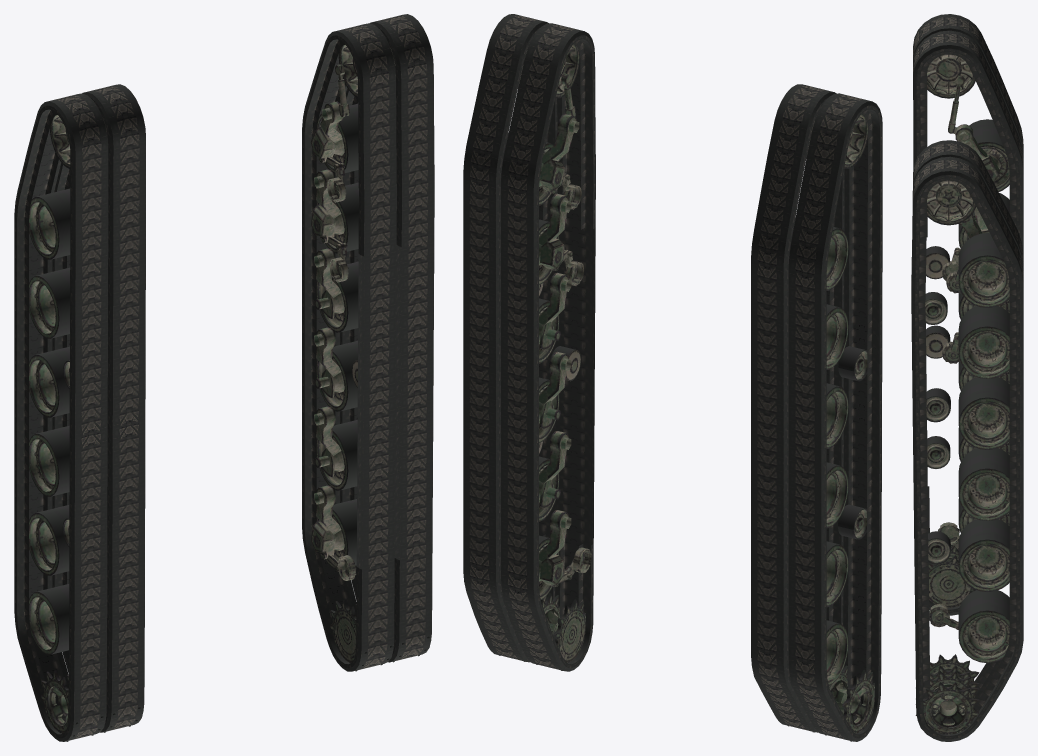
Rendered from Chassis.glb.
3 renders of one model, left to right at view 1: azimuth 30°, elevation 25°; view 2: azimuth 150°, elevation 25°; view 3: azimuth 270°, elevation 25°, orthographic. The views are drawn at different scales.
Visible parts, largest first — view 1: set_0_group_0, set_1_group_0, set_3_group_0, set_2_group_0; view 2: set_0_group_0, set_1_group_0, set_3_group_0, set_2_group_0; view 3: set_3_group_0, set_1_group_0, set_2_group_0, set_0_group_0.
Part boxes in pixels (x1,y1,x2,y2): set_0_group_0: (14,84,145,741); set_1_group_0: (302,14,434,671); set_3_group_0: (310,45,429,671); set_2_group_0: (29,115,140,741); set_0_group_0: (751,84,882,741); set_1_group_0: (463,14,595,671); set_3_group_0: (499,44,591,670); set_2_group_0: (788,114,874,741); set_3_group_0: (915,180,1009,734); set_1_group_0: (911,140,1023,741); set_2_group_0: (926,54,1009,607); set_0_group_0: (913,14,1023,615).
Size of the model in its own units: 3.87 by 6.52 by 1.16.
4 materials, 4 textured.
